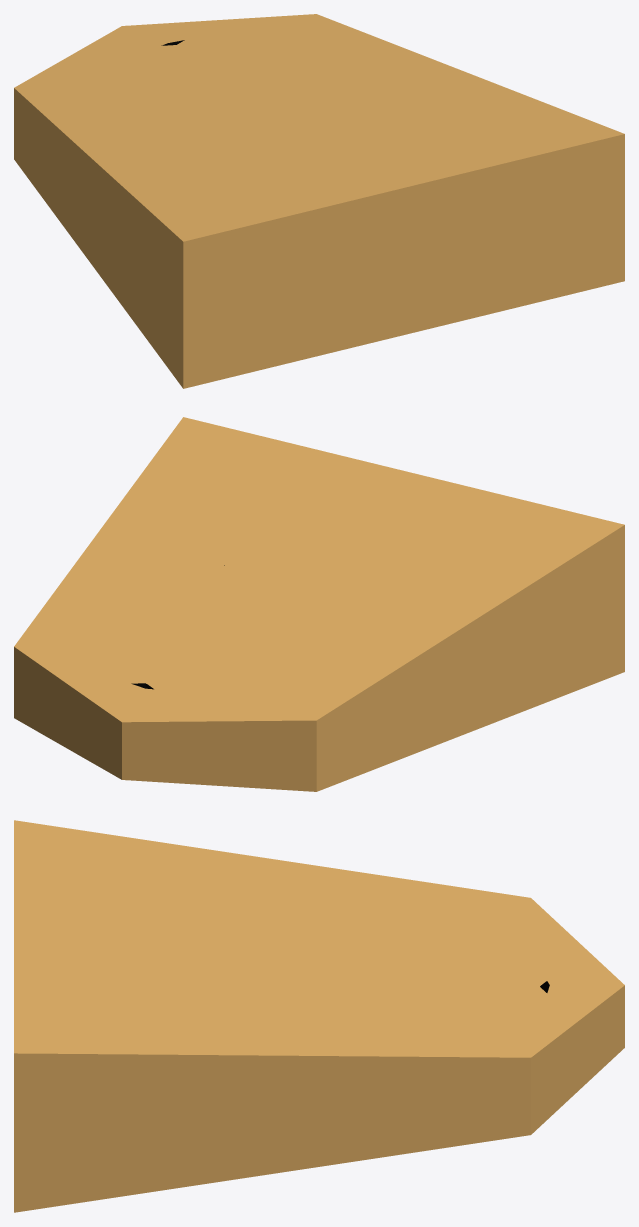
The model's file is kaku.fbx.
3 renders of one model, top to bottom at view 1: azimuth 30°, elevation 25°; view 2: azimuth 150°, elevation 25°; view 3: azimuth 270°, elevation 25°, orthographic. The views are drawn at different scales.
Parts seen in each view (by area): view 1: kaku; view 2: kaku; view 3: kaku.
Boxes of the visible parts, box(x1,y1,x2,y2) form: kaku: box(14, 14, 624, 388); kaku: box(14, 417, 624, 791); kaku: box(14, 820, 624, 1212).
Bounding box in the file's own units: 0.027 × 0.0086 × 0.0299.
